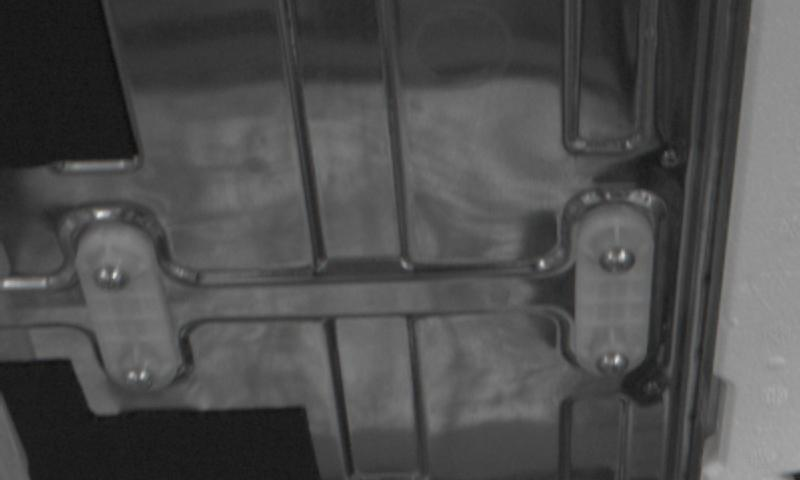vida-ok: (89, 258, 135, 303), (599, 238, 646, 281), (589, 342, 635, 382), (117, 361, 162, 400)
